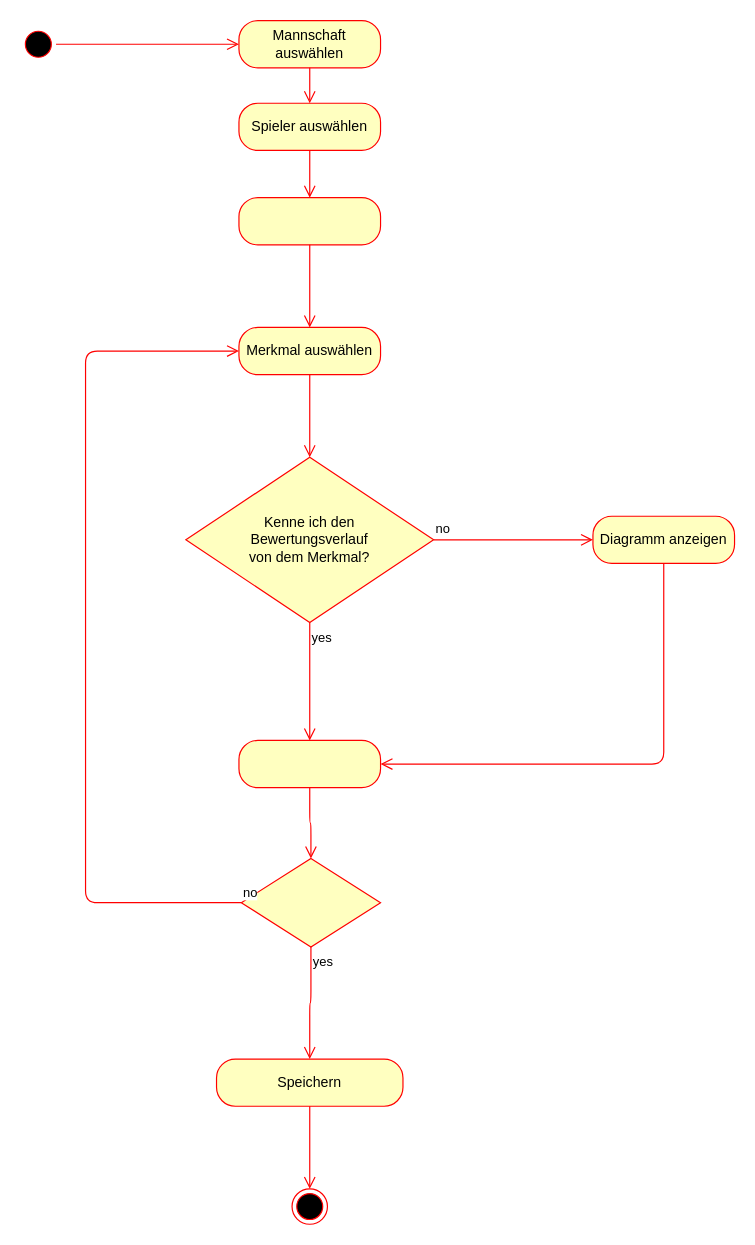
The diagram is 755 pixels wide and 1245 high, and some of its shapes have lost their labels. The shapes that lost their labels are listed below. From the top down, each one's box as (x1, y1, x2, y2) in pixels, then its label:
(238, 196, 381, 245): Neu Bewerten klicken
(238, 739, 381, 788): Merkmal bewerten
(240, 857, 381, 947): Alle Merkmale bewertet?
